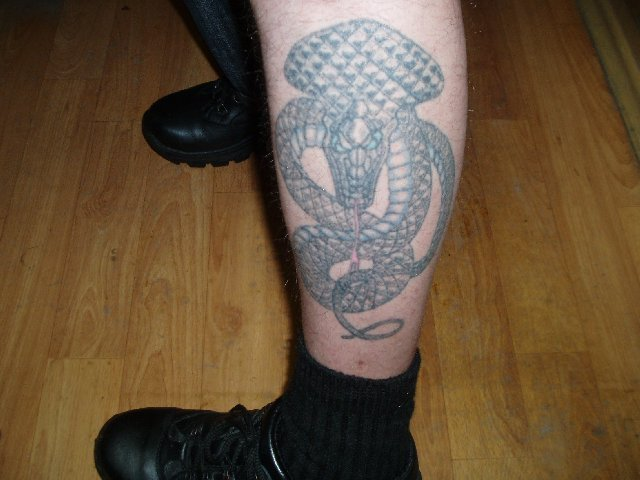tatu7_zmeya: (274, 24, 451, 334)
